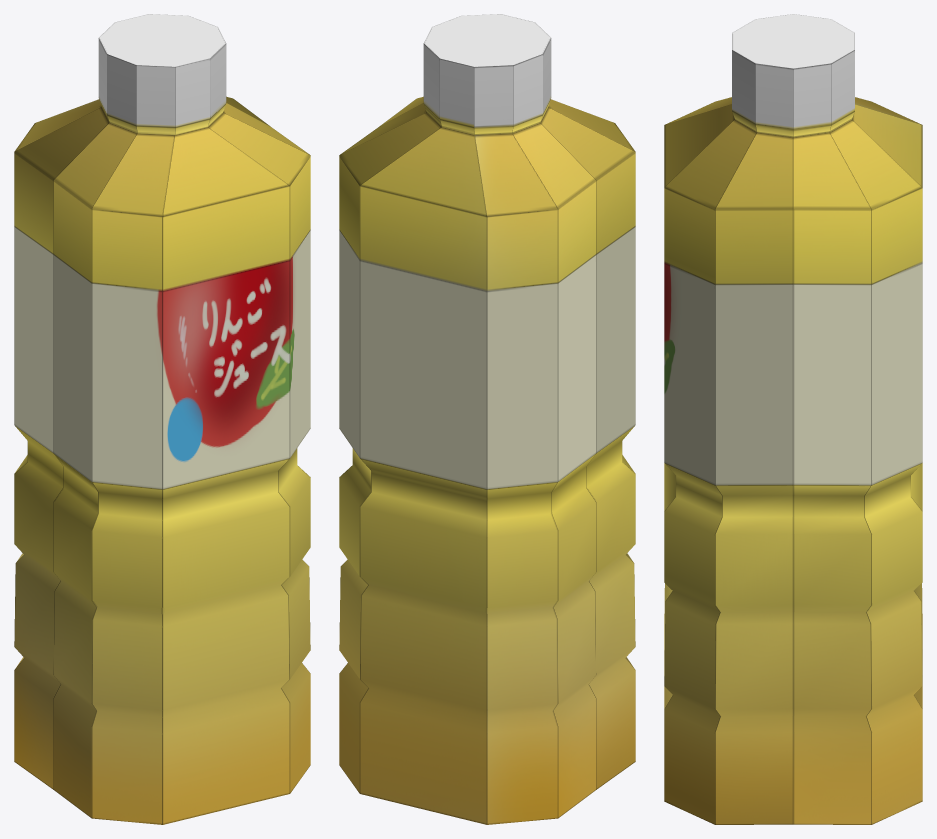
Rendered from drink_F2.fbx.
3 renders of one model, left to right at view 1: azimuth 30°, elevation 25°; view 2: azimuth 150°, elevation 25°; view 3: azimuth 270°, elevation 25°, orthographic.
Visible parts, largest first — view 1: drink_F2_1; view 2: drink_F2_1; view 3: drink_F2_1.
Part boxes in pixels (x1=…): drink_F2_1: x1=14, y1=14, x2=310, y2=824; drink_F2_1: x1=339, y1=14, x2=635, y2=824; drink_F2_1: x1=664, y1=14, x2=922, y2=824.
Bounding box in the file's own units: 28.01 × 88.37 × 28.37.
Materials: 1 (1 with a texture image).
